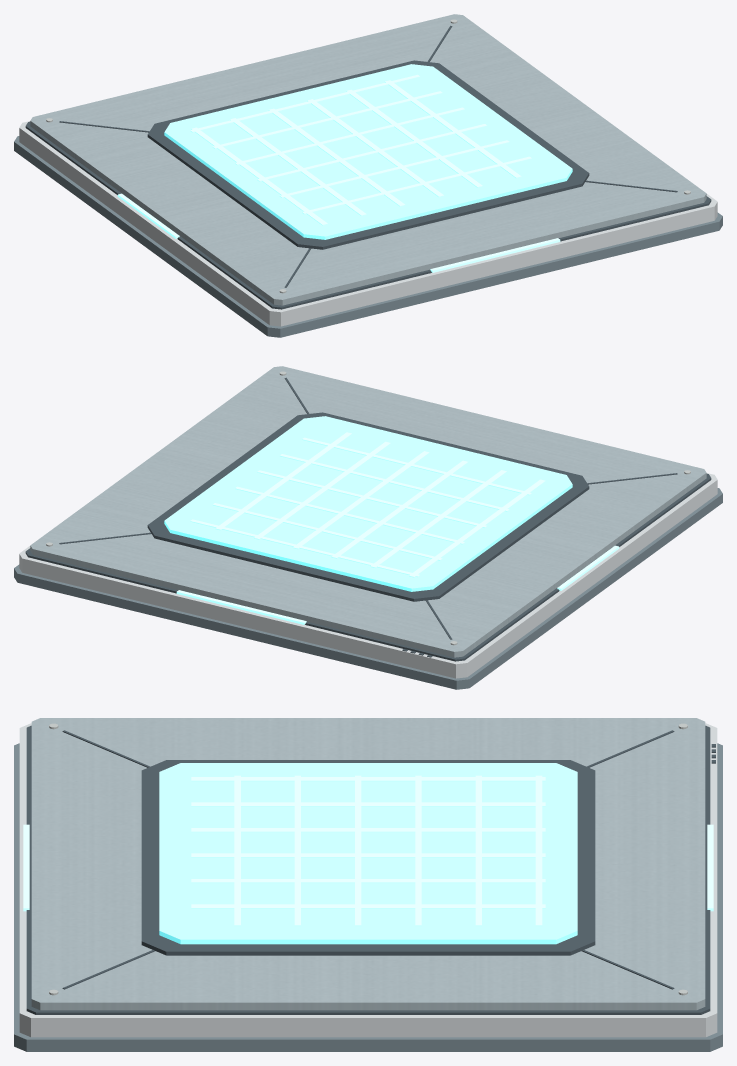
Rendered from m02-metal-service-led-panel.glb.
The picture shows the model from 3 angles, top to bottom: view 1: azimuth 30°, elevation 25°; view 2: azimuth 150°, elevation 25°; view 3: azimuth 270°, elevation 25°; orthographic projection. The views are drawn at different scales.
Visible parts, largest first — view 1: service-led-panel/003, service-led-panel/021, service-led-panel/001, service-led-panel/000, service-led-panel/020, service-led-panel/002, service-led-panel/027, service-led-panel/022, service-led-panel/024, service-led-panel/023, service-led-panel/025, service-led-panel/026 (+7 smaller); view 2: service-led-panel/003, service-led-panel/021, service-led-panel/001, service-led-panel/000, service-led-panel/020, service-led-panel/002, service-led-panel/025, service-led-panel/023, service-led-panel/024, service-led-panel/022, service-led-panel/027, service-led-panel/026 (+7 smaller); view 3: service-led-panel/003, service-led-panel/021, service-led-panel/001, service-led-panel/000, service-led-panel/020, service-led-panel/002, service-led-panel/023, service-led-panel/022, service-led-panel/024, service-led-panel/026, service-led-panel/025, service-led-panel/027 (+8 smaller).
Boxes of the visible parts, bbox=[...] form: service-led-panel/003: bbox=[30, 14, 706, 305]; service-led-panel/021: bbox=[164, 64, 572, 239]; service-led-panel/001: bbox=[19, 121, 717, 326]; service-led-panel/000: bbox=[14, 136, 722, 337]; service-led-panel/020: bbox=[147, 60, 589, 249]; service-led-panel/002: bbox=[25, 121, 711, 309]; service-led-panel/027: bbox=[385, 80, 521, 178]; service-led-panel/022: bbox=[191, 127, 327, 225]; service-led-panel/024: bbox=[268, 108, 405, 206]; service-led-panel/023: bbox=[230, 118, 366, 215]; service-led-panel/025: bbox=[307, 99, 444, 197]; service-led-panel/026: bbox=[346, 89, 482, 187]; service-led-panel/003: bbox=[30, 366, 706, 657]; service-led-panel/021: bbox=[164, 416, 572, 591]; service-led-panel/001: bbox=[19, 473, 717, 678]; service-led-panel/000: bbox=[14, 488, 722, 689]; service-led-panel/020: bbox=[147, 412, 589, 601]; service-led-panel/002: bbox=[25, 473, 711, 661]; service-led-panel/025: bbox=[292, 451, 429, 549]; service-led-panel/023: bbox=[370, 470, 506, 567]; service-led-panel/024: bbox=[331, 460, 468, 558]; service-led-panel/022: bbox=[409, 479, 545, 577]; service-led-panel/027: bbox=[215, 432, 351, 530]; service-led-panel/026: bbox=[254, 441, 390, 539]; service-led-panel/003: bbox=[31, 718, 705, 1010]; service-led-panel/021: bbox=[159, 763, 577, 944]; service-led-panel/001: bbox=[19, 723, 717, 1037]; service-led-panel/000: bbox=[14, 743, 722, 1051]; service-led-panel/020: bbox=[141, 760, 595, 955]; service-led-panel/002: bbox=[26, 725, 710, 1014]; service-led-panel/023: bbox=[191, 802, 545, 806]; service-led-panel/022: bbox=[191, 777, 545, 781]; service-led-panel/024: bbox=[191, 828, 545, 832]; service-led-panel/026: bbox=[191, 879, 545, 883]; service-led-panel/025: bbox=[191, 853, 545, 857]; service-led-panel/027: bbox=[191, 904, 545, 908].
Size of the model in its own units: 1 by 0.0805 by 1.
Materials: 7 (1 with a texture image).
